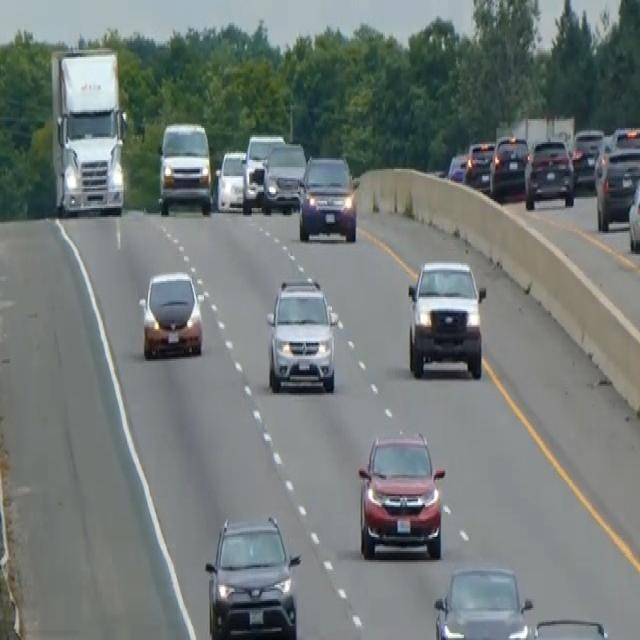car: (204, 512, 302, 638), (356, 428, 446, 560), (406, 256, 486, 379), (265, 275, 337, 393), (433, 562, 532, 638), (137, 269, 204, 359), (297, 153, 358, 242), (594, 142, 639, 231), (523, 135, 575, 210), (242, 132, 285, 210), (261, 140, 306, 213), (488, 132, 529, 199), (214, 148, 247, 212), (570, 126, 604, 187), (524, 615, 610, 638), (463, 139, 495, 190), (627, 171, 639, 254), (446, 149, 468, 183)
lorry: (49, 44, 128, 217)
minivan: (157, 119, 212, 215)
